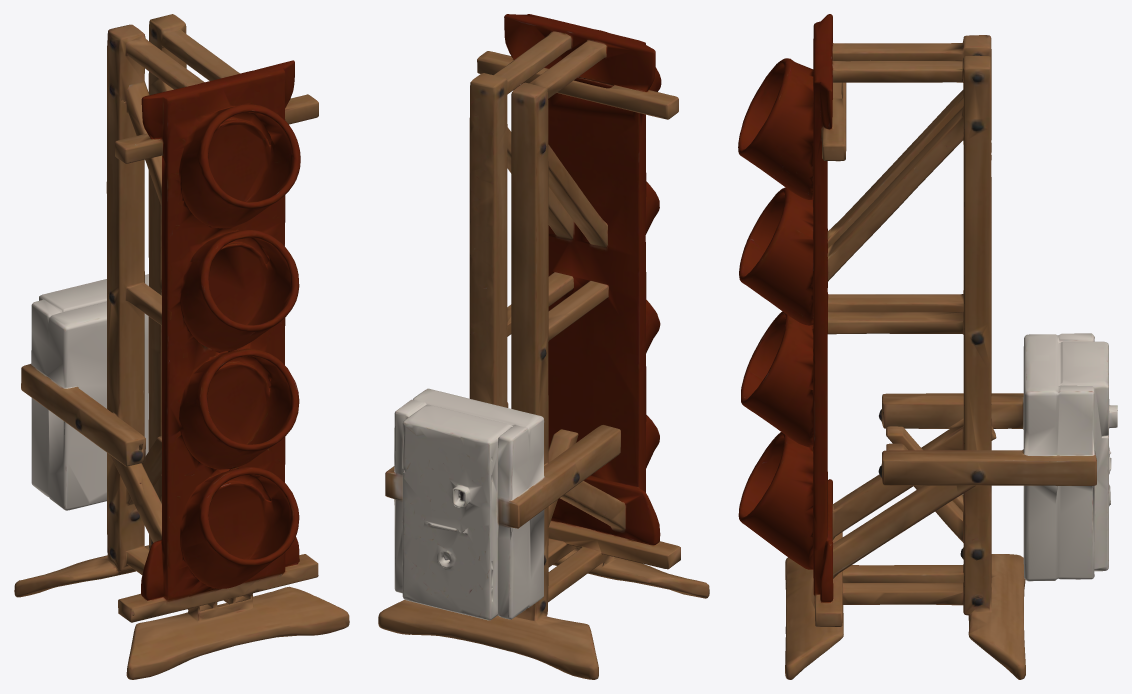
File: tiered-terracotta-planter.glb
The picture shows the model from 3 angles, left to right: view 1: azimuth 30°, elevation 25°; view 2: azimuth 150°, elevation 25°; view 3: azimuth 270°, elevation 25°; orthographic projection. The views are drawn at different scales.
Visible parts, largest first — view 1: world; view 2: world; view 3: world.
Boxes of the visible parts, left/top/right/bottom form: world: left=14, top=14, right=349, bottom=679; world: left=378, top=14, right=709, bottom=679; world: left=738, top=14, right=1117, bottom=679.
Bounding box in the file's own units: 0.414 × 1 × 0.5985.
1 material, 1 textured.
